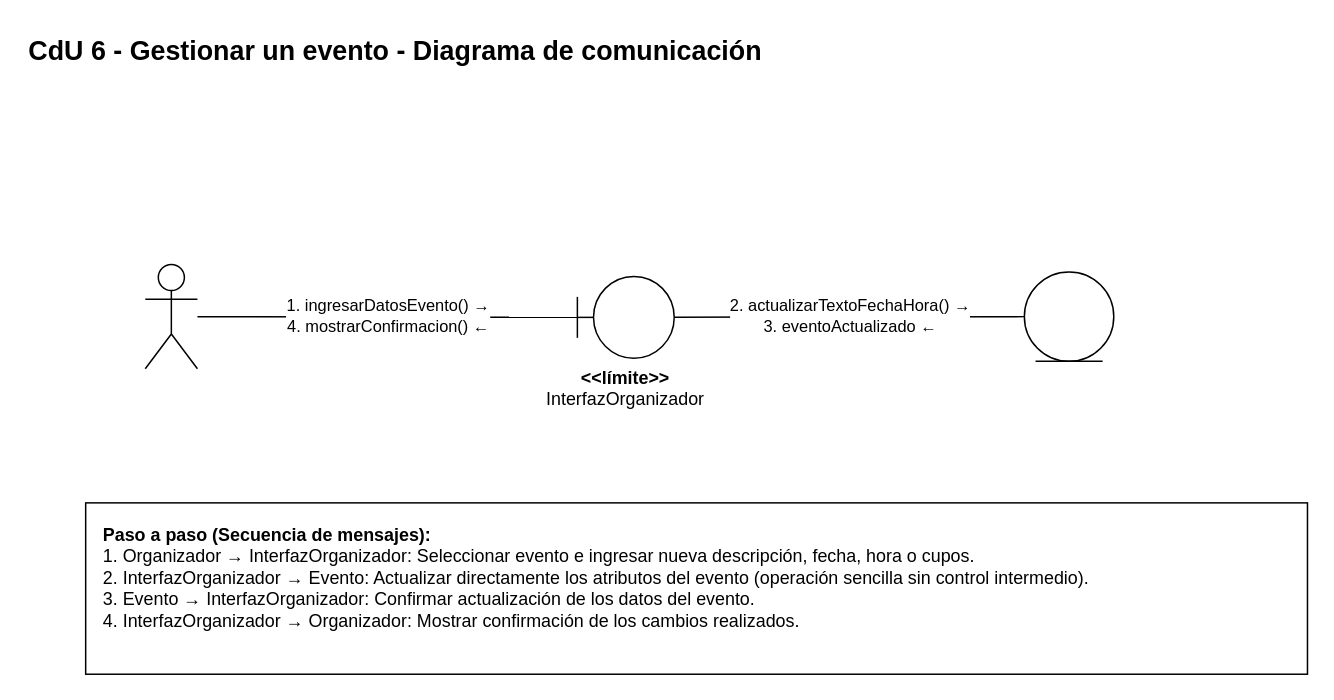
The diagram is 1334 pixels wide and 700 high, and some of its shapes have lost their labels. Here are the shapes that lost their labels. From the top down, the centre of each, then its label:
At (170,316): "<<actor>> Organizador".
At (1068,315): "<<entidad>> Evento".
